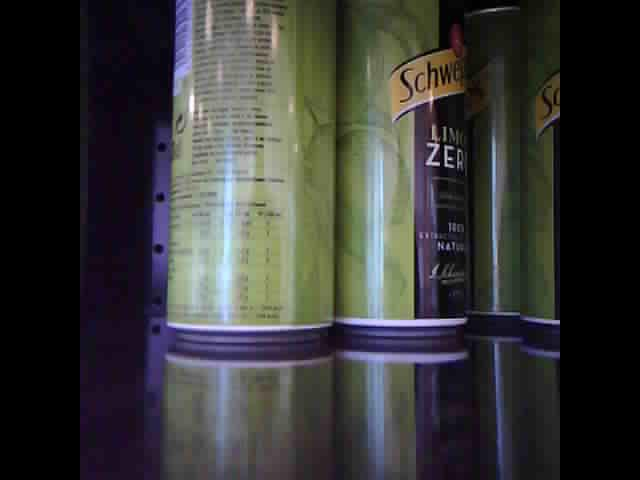schweppes: (163, 2, 337, 342), (332, 1, 474, 336), (470, 3, 520, 326), (516, 2, 563, 331)
